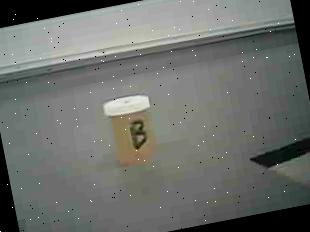Bottle B: (95, 84, 170, 181)
